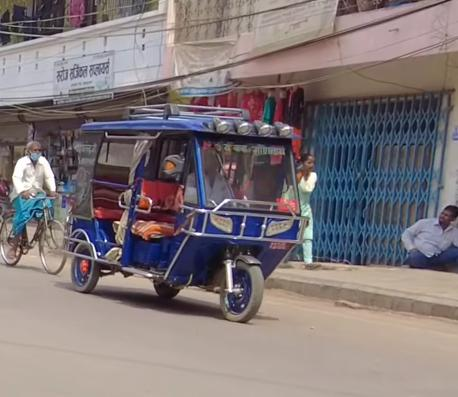e-rickshaw: (64, 94, 306, 325)
